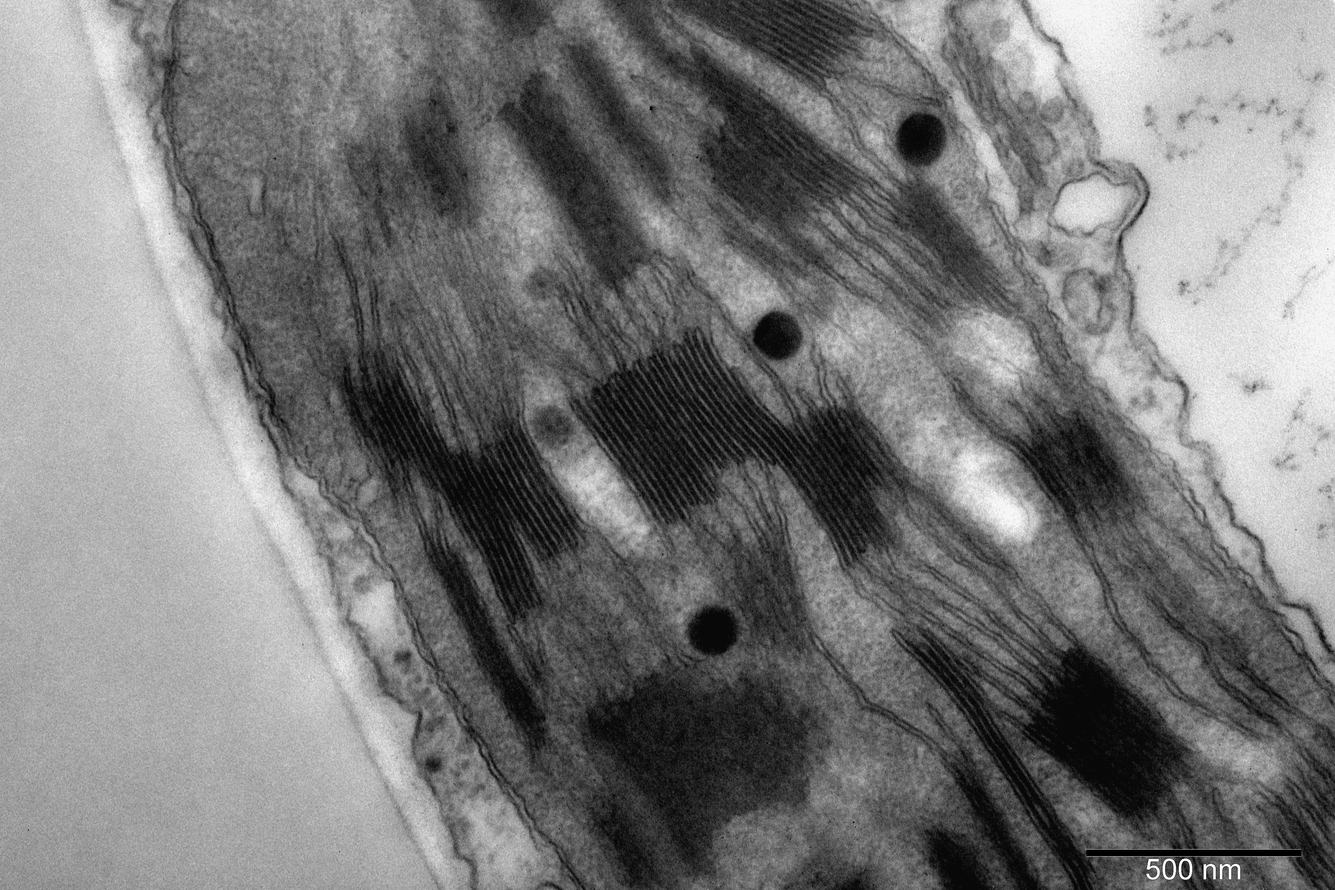granum: (586, 657, 835, 877), (906, 629, 1107, 890), (565, 325, 793, 529), (418, 416, 590, 628), (500, 68, 662, 290), (683, 49, 873, 238), (1019, 640, 1191, 824), (422, 535, 550, 752), (775, 398, 915, 576), (891, 180, 1027, 319), (559, 35, 675, 191), (675, 0, 876, 90), (940, 746, 1050, 890), (1000, 409, 1138, 522), (340, 360, 453, 487), (716, 533, 818, 652), (401, 93, 478, 234), (1259, 798, 1335, 888), (921, 834, 996, 890), (475, 0, 565, 43)
